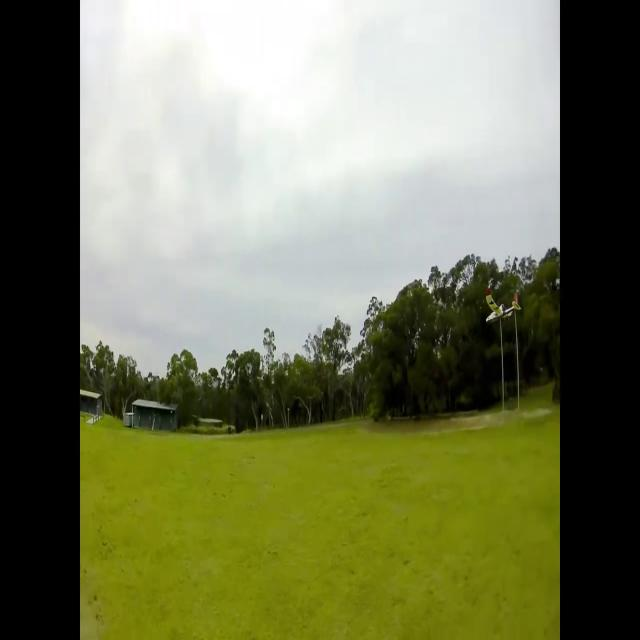iha: (486, 292, 522, 322)
